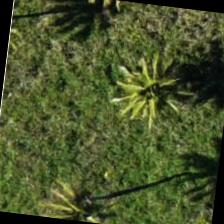Kelapa_Sawit: (110, 38, 210, 138), (26, 162, 124, 223)
